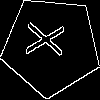X: (26, 21, 73, 59)
